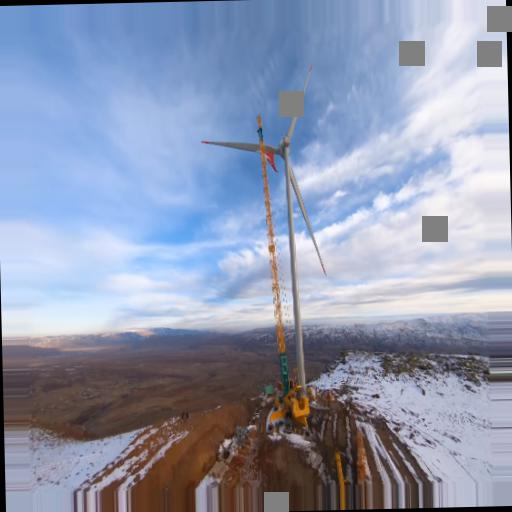wind turbine: (200, 64, 328, 409)
